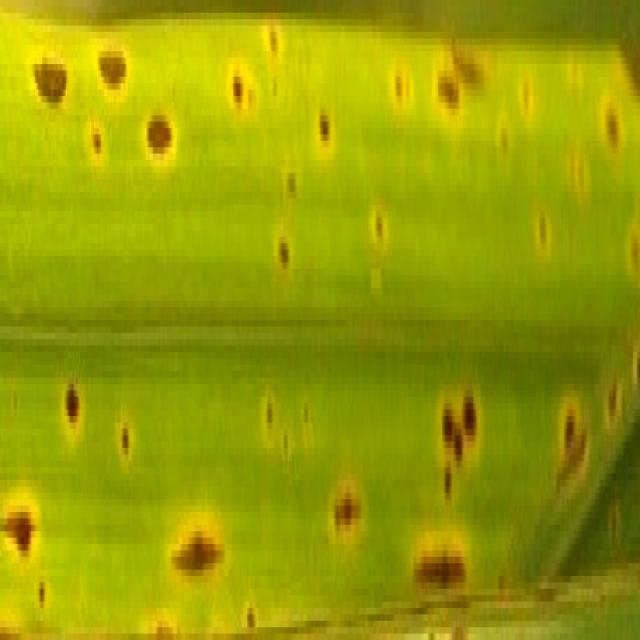brown spot: (162, 492, 233, 612), (433, 365, 483, 508), (404, 521, 474, 610), (136, 73, 185, 191), (23, 35, 76, 126), (325, 466, 369, 556), (551, 355, 582, 477), (226, 35, 262, 140), (0, 480, 41, 570), (91, 27, 135, 108), (596, 67, 628, 177), (451, 30, 489, 120), (58, 352, 87, 468), (432, 41, 466, 135), (598, 338, 625, 454), (556, 361, 580, 470), (311, 93, 339, 175), (534, 178, 555, 286), (385, 52, 418, 119), (272, 209, 297, 296), (515, 58, 541, 140), (620, 192, 640, 294), (368, 184, 395, 256), (261, 0, 286, 77), (234, 576, 264, 640), (84, 110, 110, 182), (256, 378, 278, 459), (566, 32, 587, 114), (116, 396, 135, 484), (493, 96, 514, 175), (282, 142, 302, 224), (33, 556, 51, 626), (276, 419, 297, 477), (573, 148, 590, 214), (300, 387, 316, 456), (630, 320, 640, 410)
